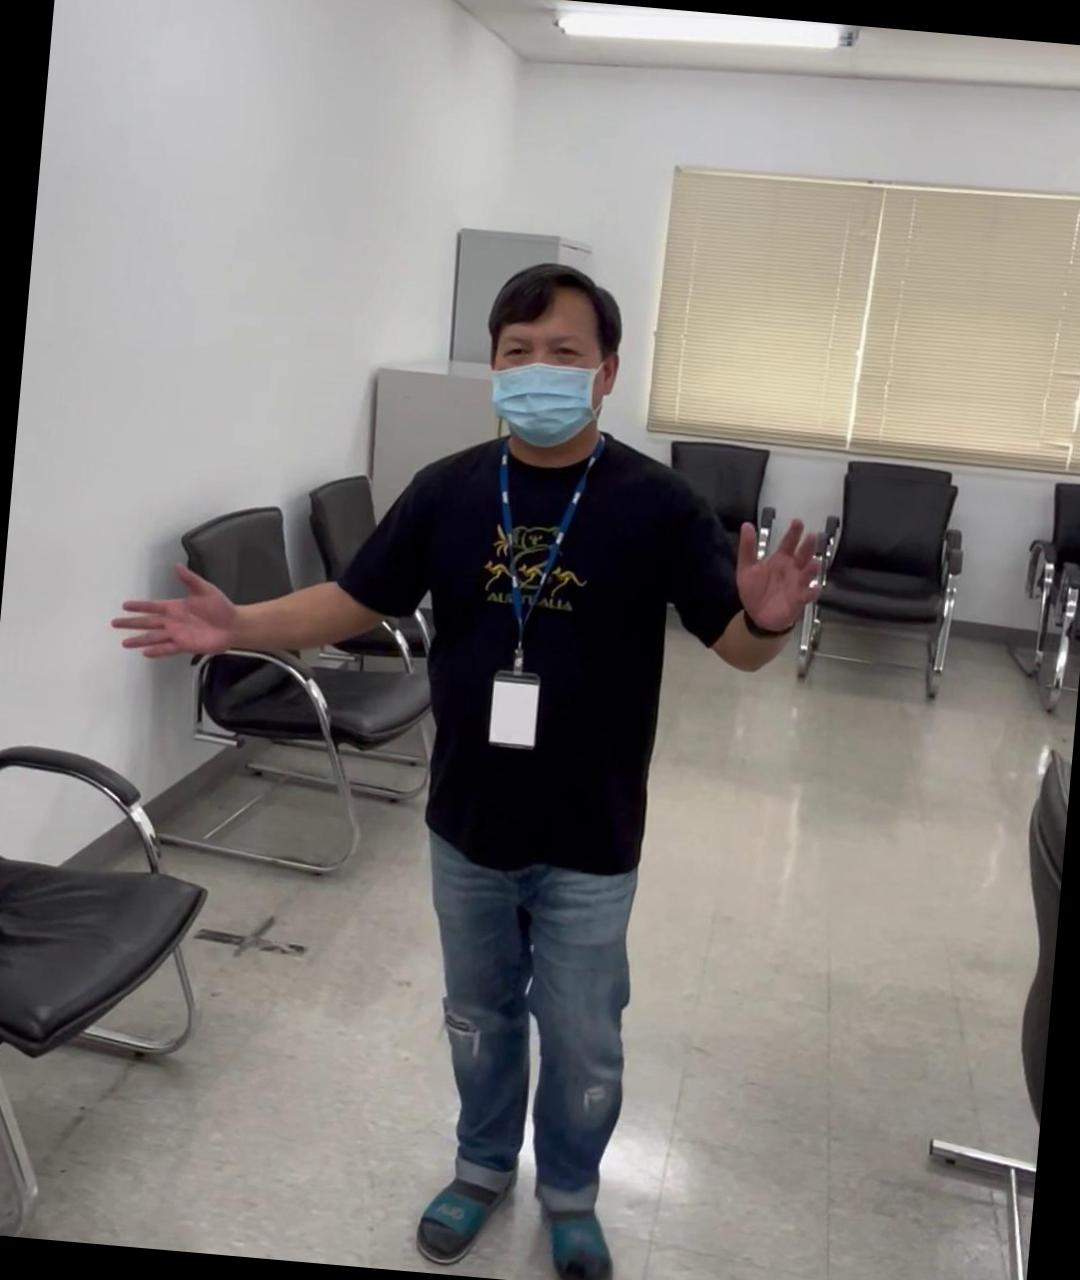No-gloves: (107, 549, 247, 675), (725, 502, 834, 641)
